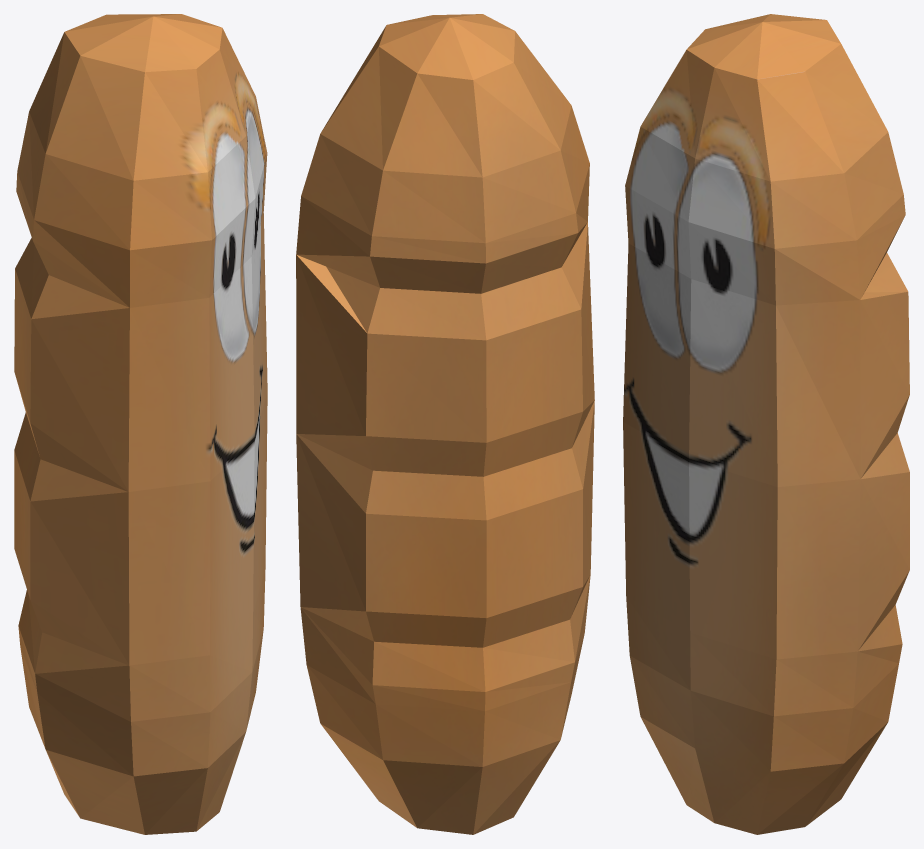
Rendered from bread.obj.
3 views of the same model, side by side, from view 1: azimuth 30°, elevation 25°; view 2: azimuth 150°, elevation 25°; view 3: azimuth 270°, elevation 25° (orthographic).
Parts seen in each view (by area): view 1: Cylinder; view 2: Cylinder; view 3: Cylinder.
Part boxes in pixels (x1=…): Cylinder: x1=14, y1=14, x2=267, y2=834; Cylinder: x1=296, y1=14, x2=594, y2=834; Cylinder: x1=623, y1=14, x2=909, y2=834.
Bounding box in the file's own units: 14.42 × 44.51 × 14.42.
Materials: 1 (1 with a texture image).
